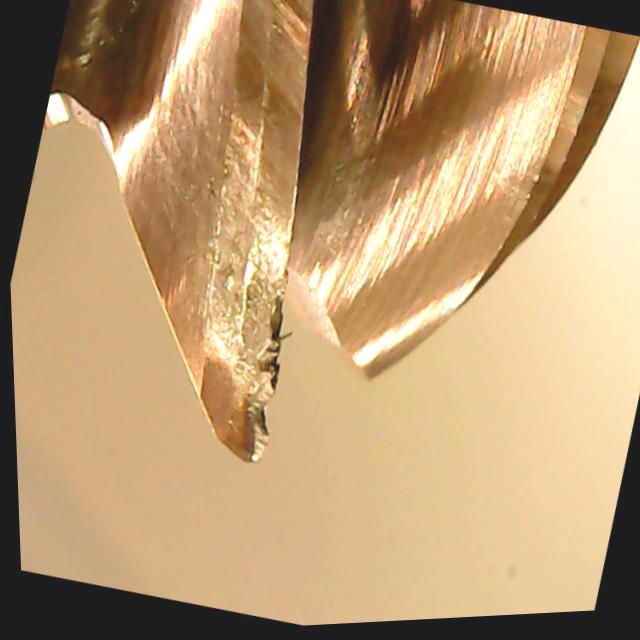Tool-wear-class-1: (158, 146, 339, 477)
